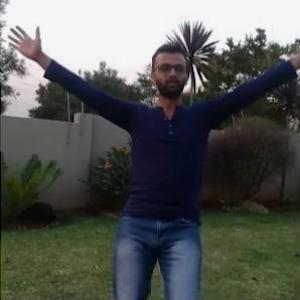takeoff: (11, 32, 299, 299)
